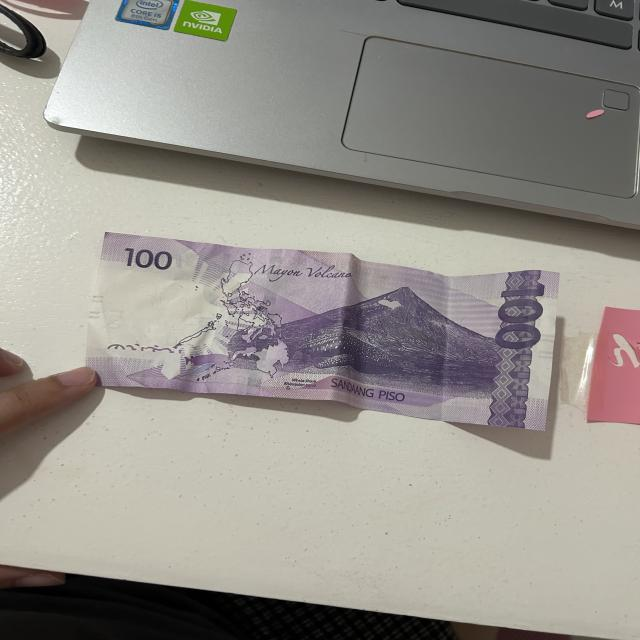100_whale: (284, 330, 405, 376)
100_whale_watermark: (185, 353, 238, 369)
value_watermark: (104, 307, 127, 333)
